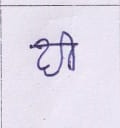i_matra: (62, 31, 76, 71)
